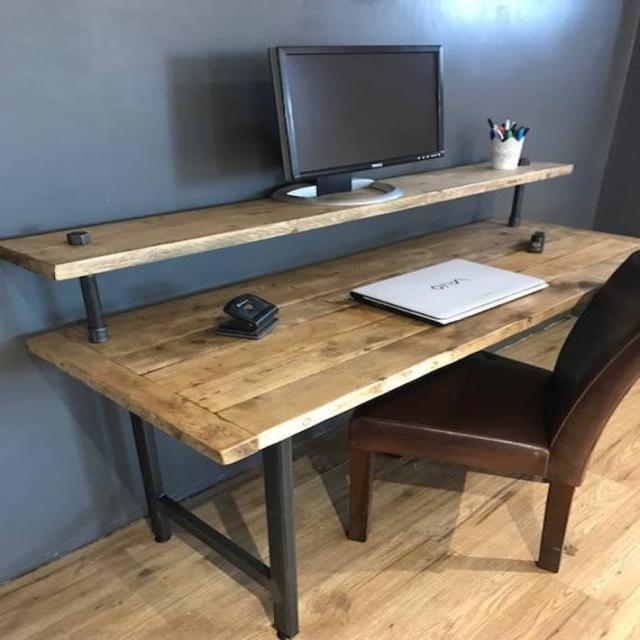chair: (357, 253, 640, 569)
komputer: (272, 42, 450, 202)
laptop: (341, 259, 551, 328)
